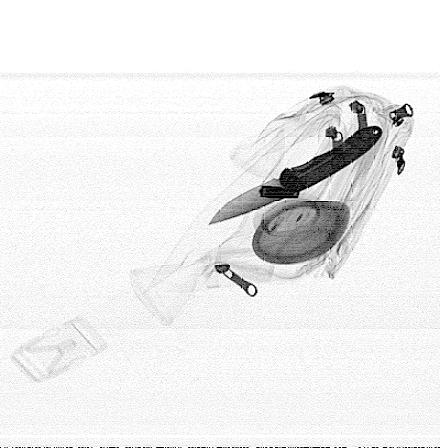Knife: (206, 125, 385, 225)
